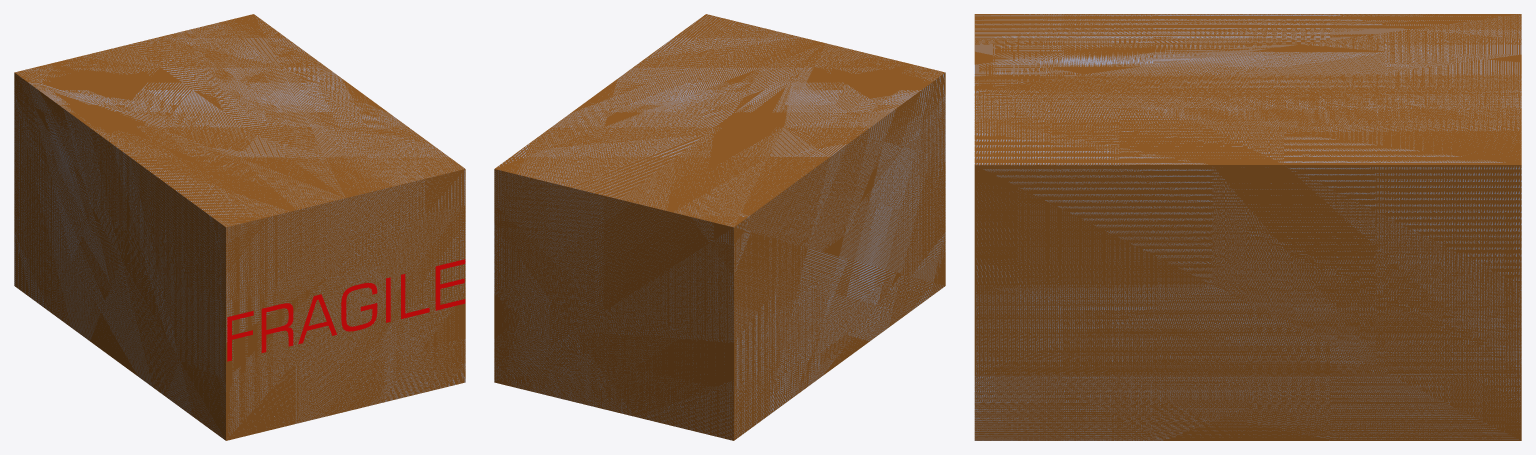
Rendered from box_closed.dae.
The picture shows the model from 3 angles, left to right: view 1: azimuth 30°, elevation 25°; view 2: azimuth 150°, elevation 25°; view 3: azimuth 270°, elevation 25°; orthographic projection. The views are drawn at different scales.
Visible parts, largest first — view 1: SketchUp, FRAGILE_6 (×5); view 2: SketchUp; view 3: SketchUp.
Boxes of the visible parts, box(x1,y1,x2,y2) form: SketchUp: box(14, 14, 465, 440); FRAGILE_6 (×5): box(227, 259, 465, 361); SketchUp: box(494, 14, 945, 440); SketchUp: box(974, 14, 1521, 440).
Size of the model in its own units: 63.78 by 97.7 by 54.33.
